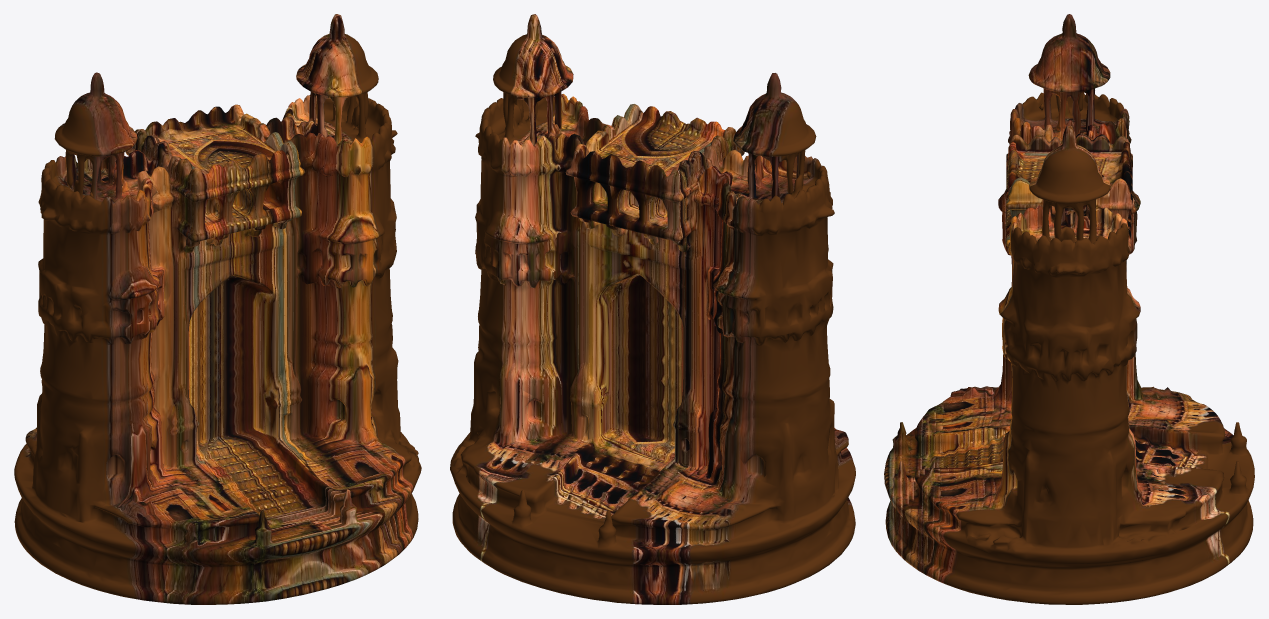
File: palace_gate.glb
3 renders of one model, left to right at view 1: azimuth 30°, elevation 25°; view 2: azimuth 150°, elevation 25°; view 3: azimuth 270°, elevation 25°, orthographic. The views are drawn at different scales.
Parts seen in each view (by area): view 1: geometry_0; view 2: geometry_0; view 3: geometry_0.
Boxes of the visible parts, bbox=[...] form: geometry_0: bbox=[14, 14, 421, 604]; geometry_0: bbox=[450, 14, 855, 604]; geometry_0: bbox=[884, 14, 1254, 604].
Bounding box in the file's own units: 1.51 × 1.96 × 1.45.
1 material, 1 textured.
